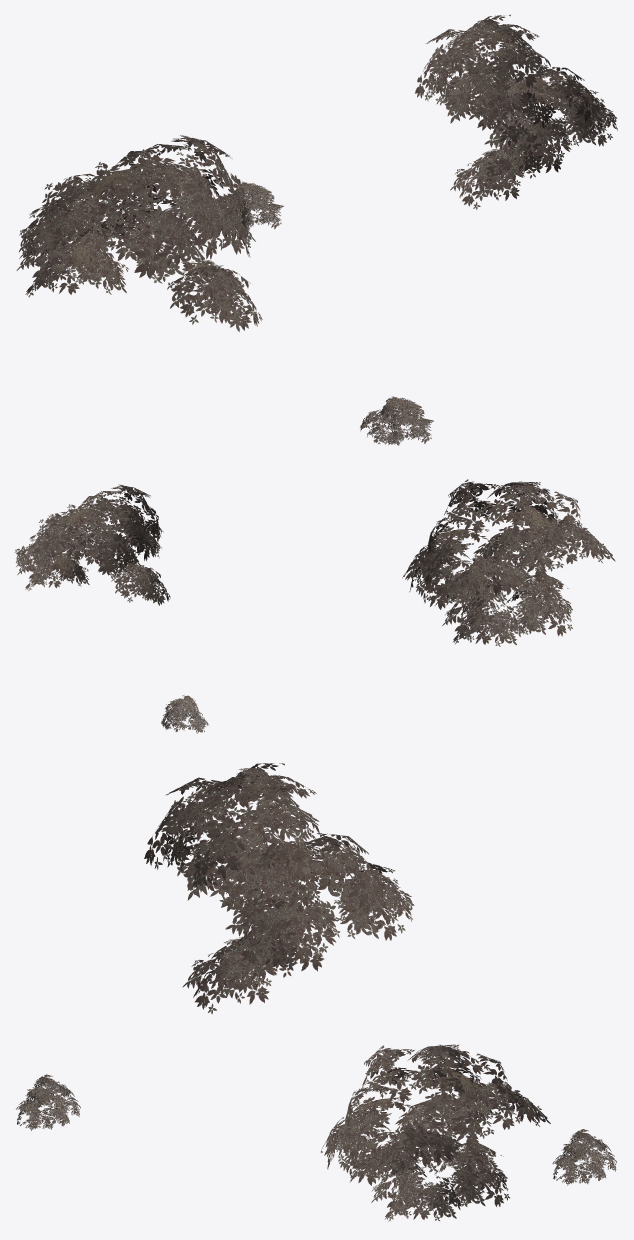
The model's file is Area09_14.FBX.
3 views of the same model, one above another, from view 1: azimuth 30°, elevation 25°; view 2: azimuth 150°, elevation 25°; view 3: azimuth 270°, elevation 25° (orthographic). The views are drawn at different scales.
Parts seen in each view (by area): view 1: Area09_14; view 2: Area09_14; view 3: Area09_14.
Boxes of the visible parts, x1,y1,x2,y2 form: Area09_14: (16,14,617,445); Area09_14: (14,479,615,733); Area09_14: (16,763,616,1221).
Size of the model in its own units: 4390 by 1600 by 3273.
